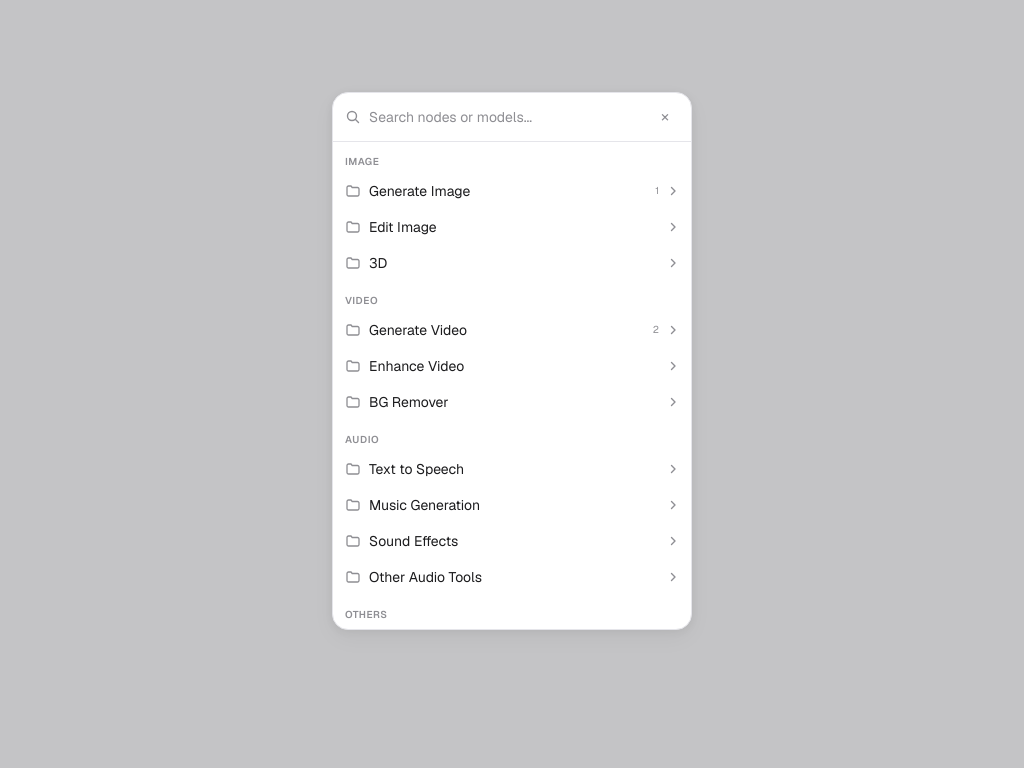
Test case: NodePalette overlay › filters leaves via search
This screenshot has width=1024, height=768.
Type "merge" into the field with test id "palette-search" at (506, 117), box [369, 107, 643, 127]
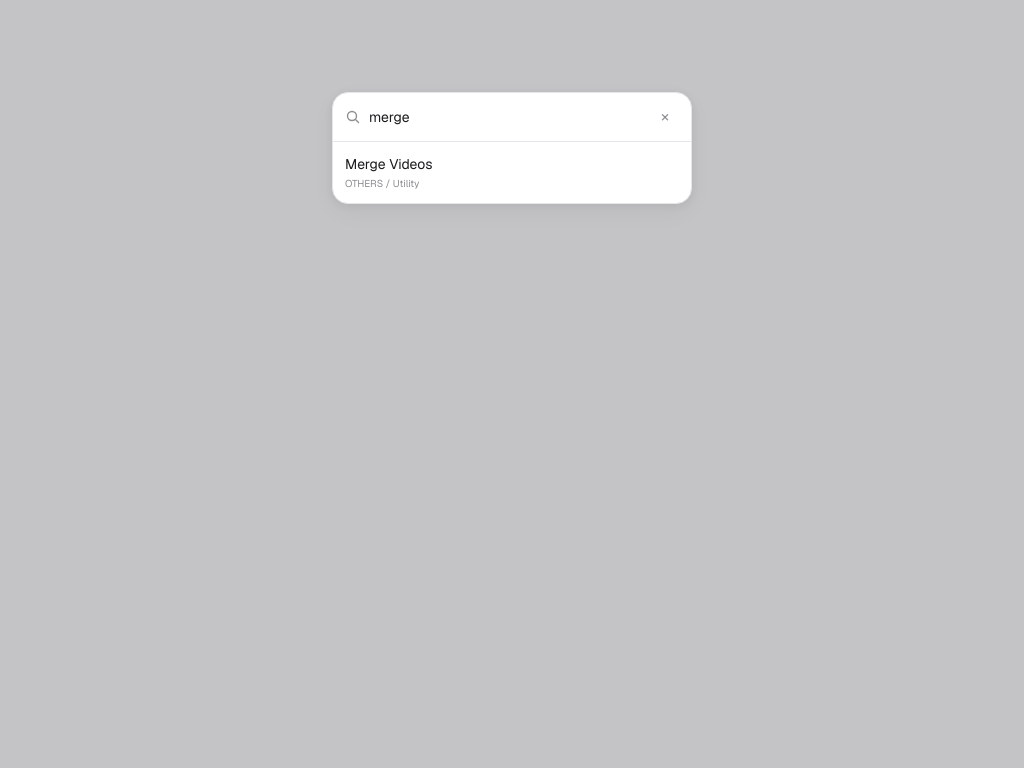
expect the button with test id "palette-item-merge_videos" is shown: met, box [333, 146, 691, 199]
